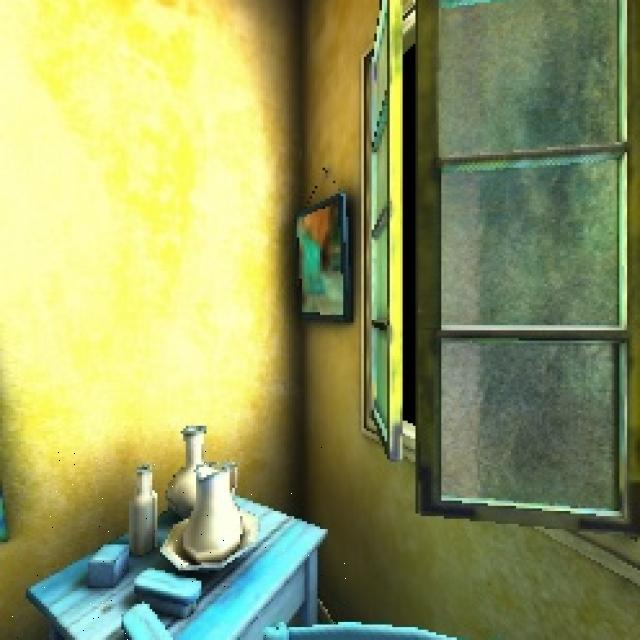table: (0, 446, 346, 640)
